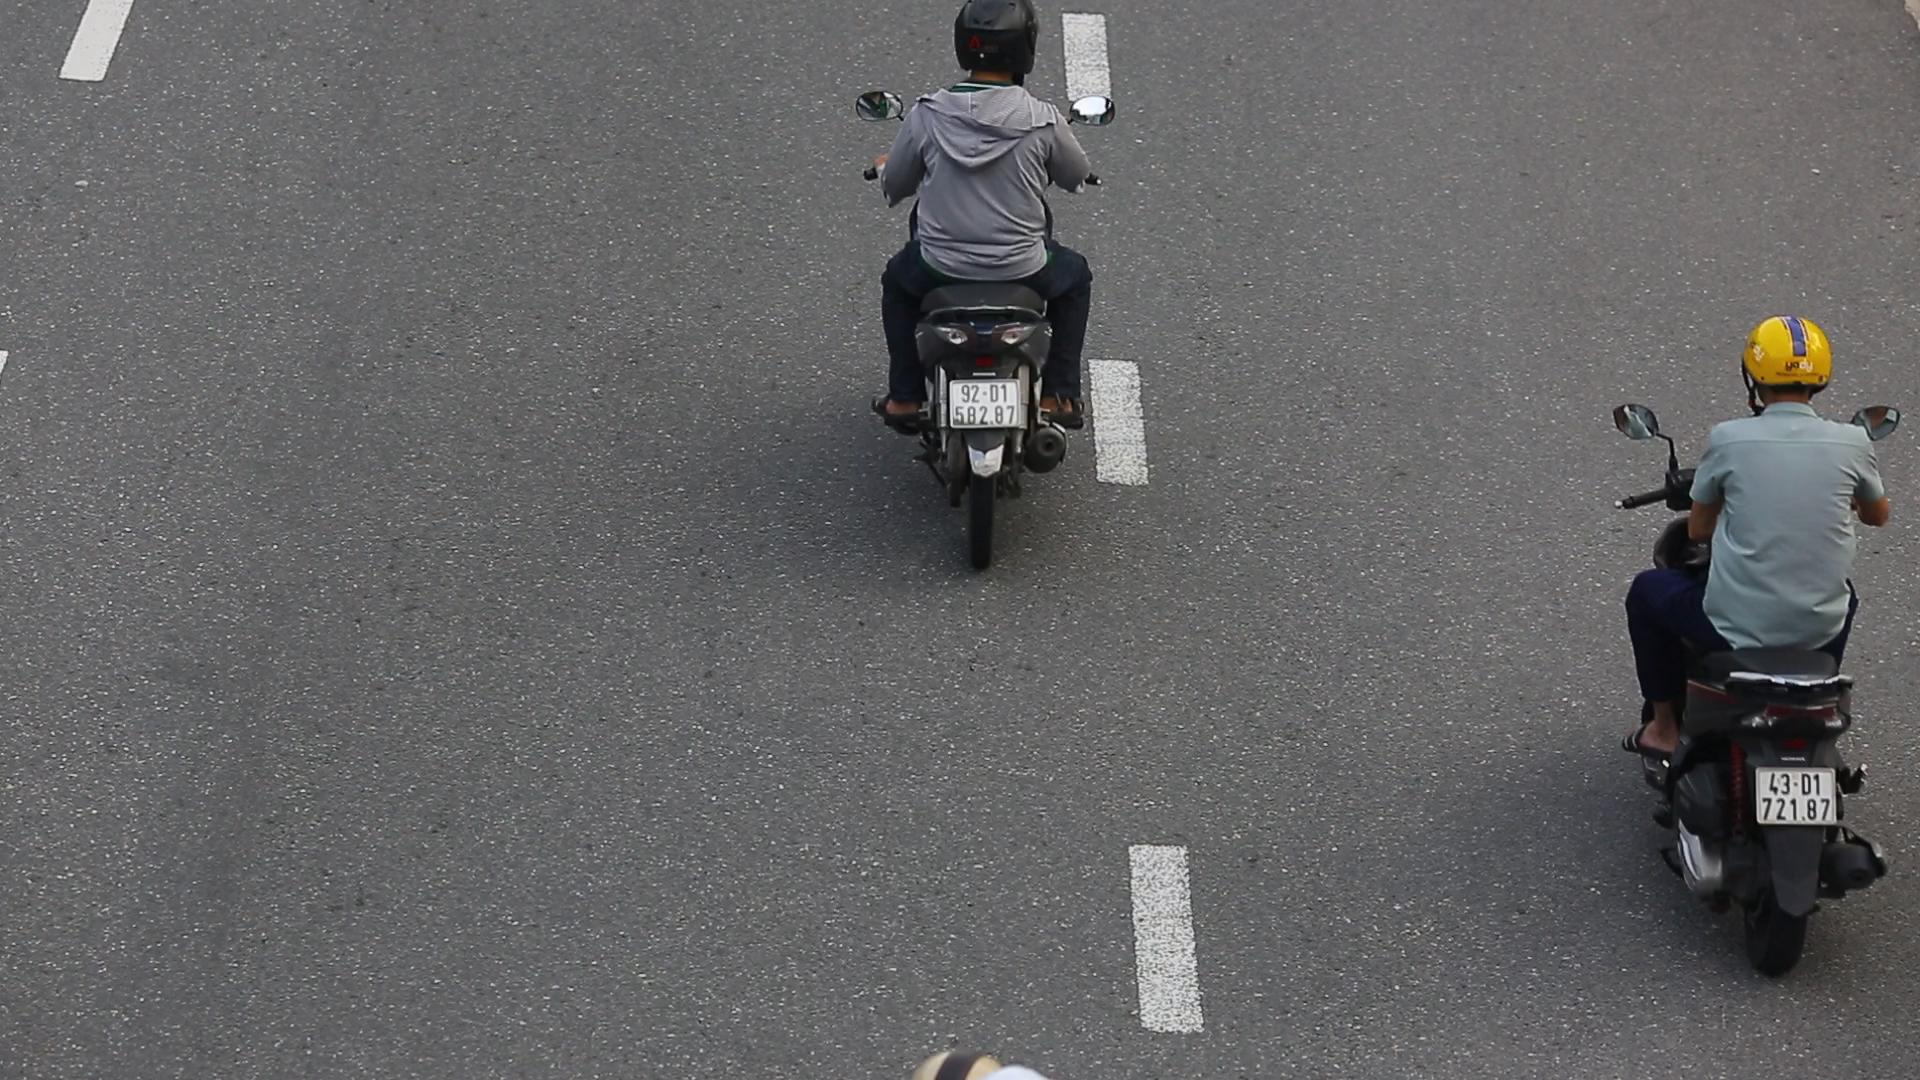motobike: (1575, 301, 1920, 985), (822, 0, 1130, 591)
